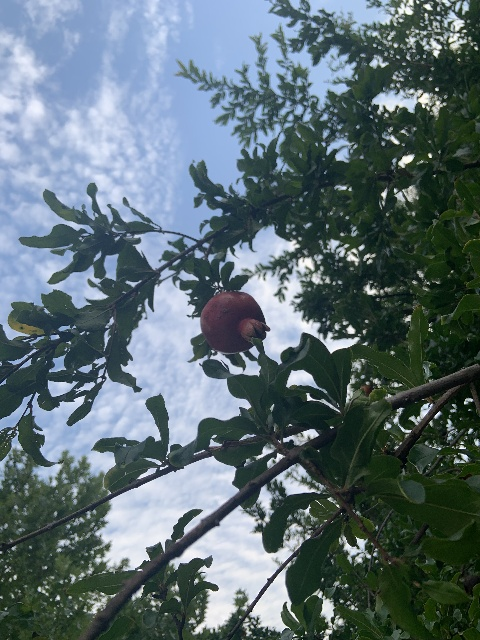ripe: (199, 290, 270, 354)
